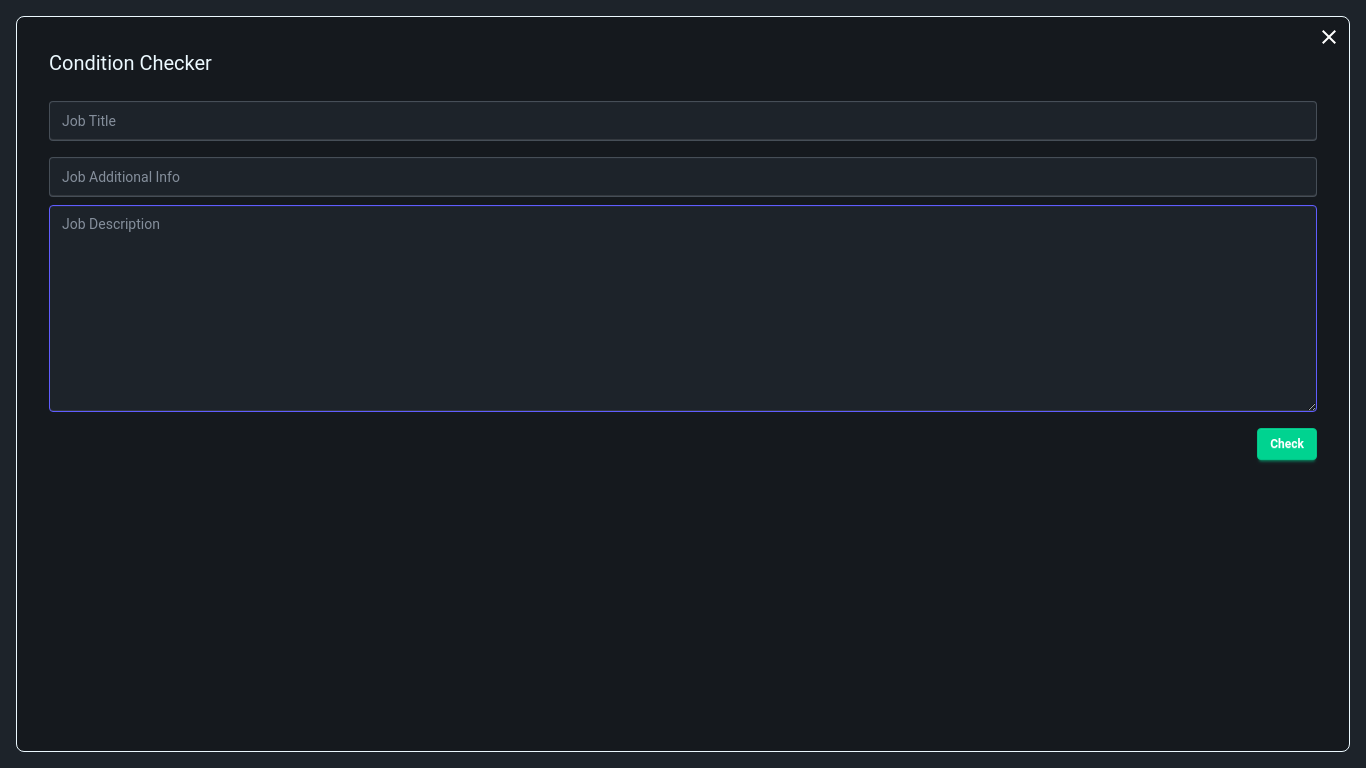
Test: ConditionCheckModal › should initialize the count number
The image size is (1366, 768).
Type "   React Developer / Frankfurt / 80k  " into the field with test id "title" at x=683, y=121, box [49,101,1317,141]
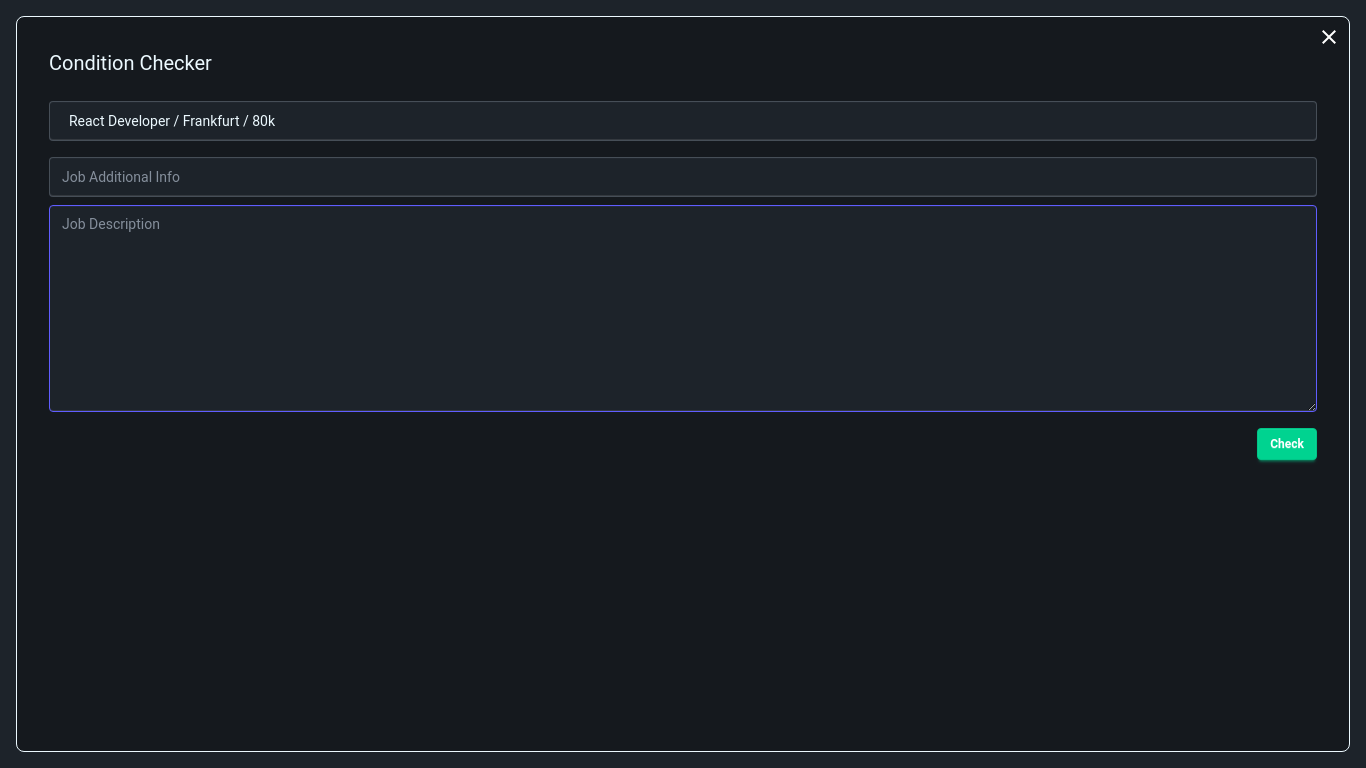
Type "   Senior React Developer, Fintech industry // Frankfurt // €80.000We need you! Our international, fastgrowing fintech company central in Frankfurt is looking for a strong Senior React Developer to jo" into the text box with test id "desc" at x=683, y=308, box [49,205,1317,412]
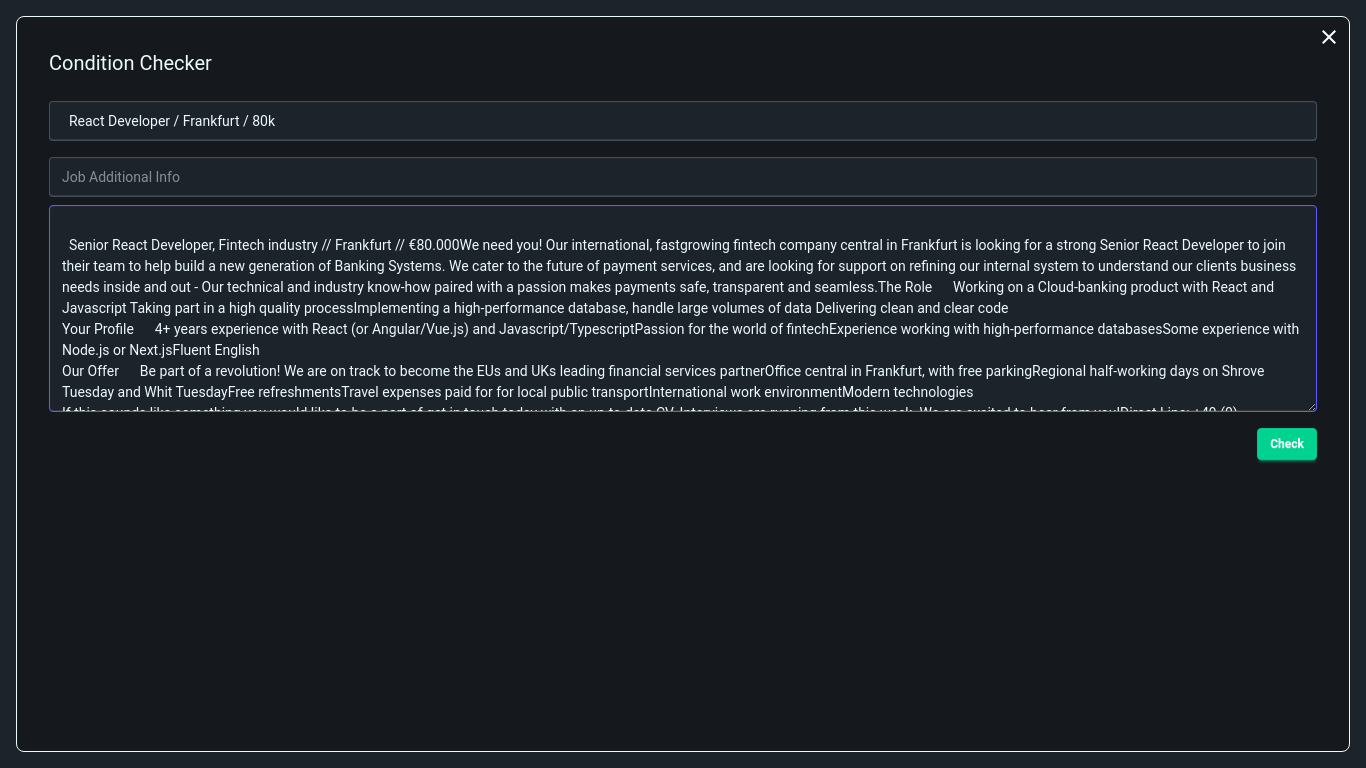
Click the button with test id "checkBtn" at x=1287, y=444, box [1257,428,1317,460]
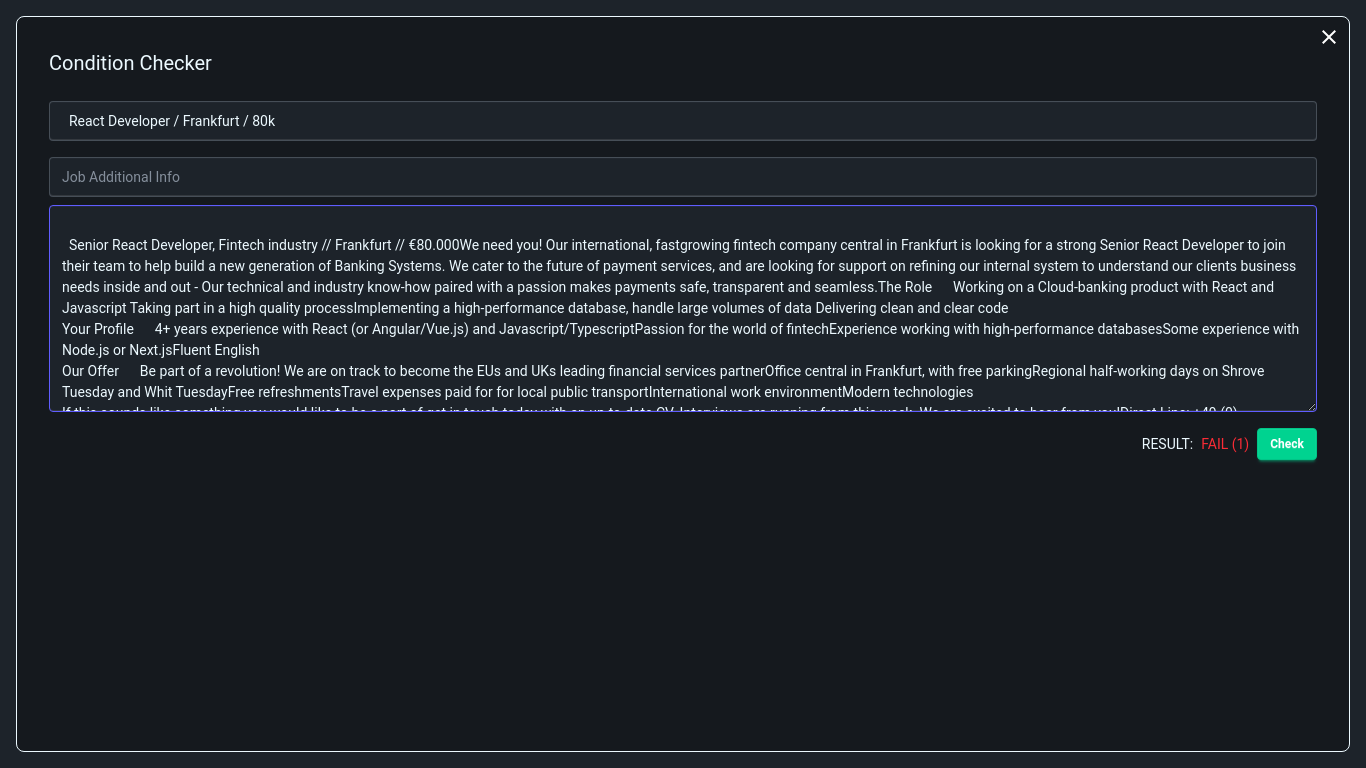
Expected: the text "fail (1)" is shown, [1201,434,1249,454]
Replace the text in the field with test id "title" with "rust" at x=683, y=121, box [49,101,1317,141]
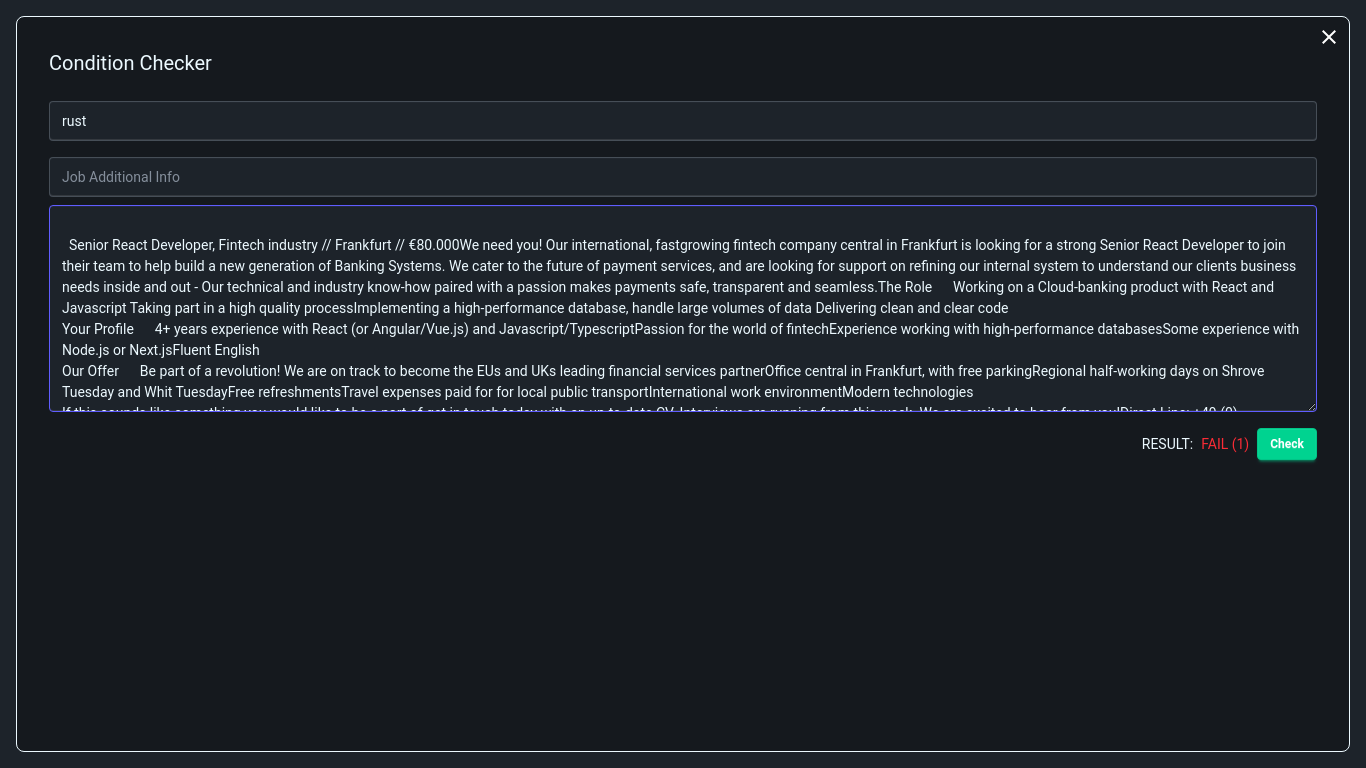
Click the button with test id "checkBtn" at x=1287, y=444, box [1257,428,1317,460]
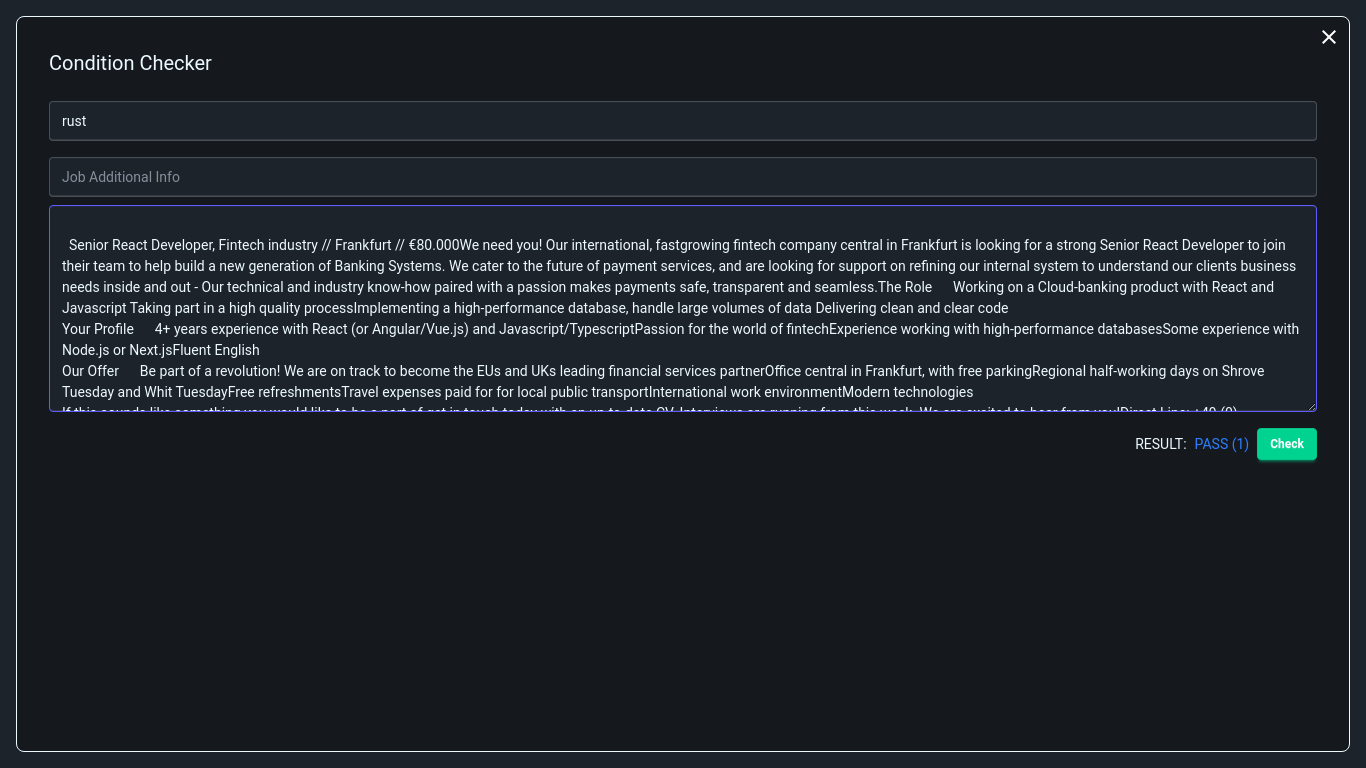
Expected: the text "pass (1)" is shown, [1195,434,1249,454]
